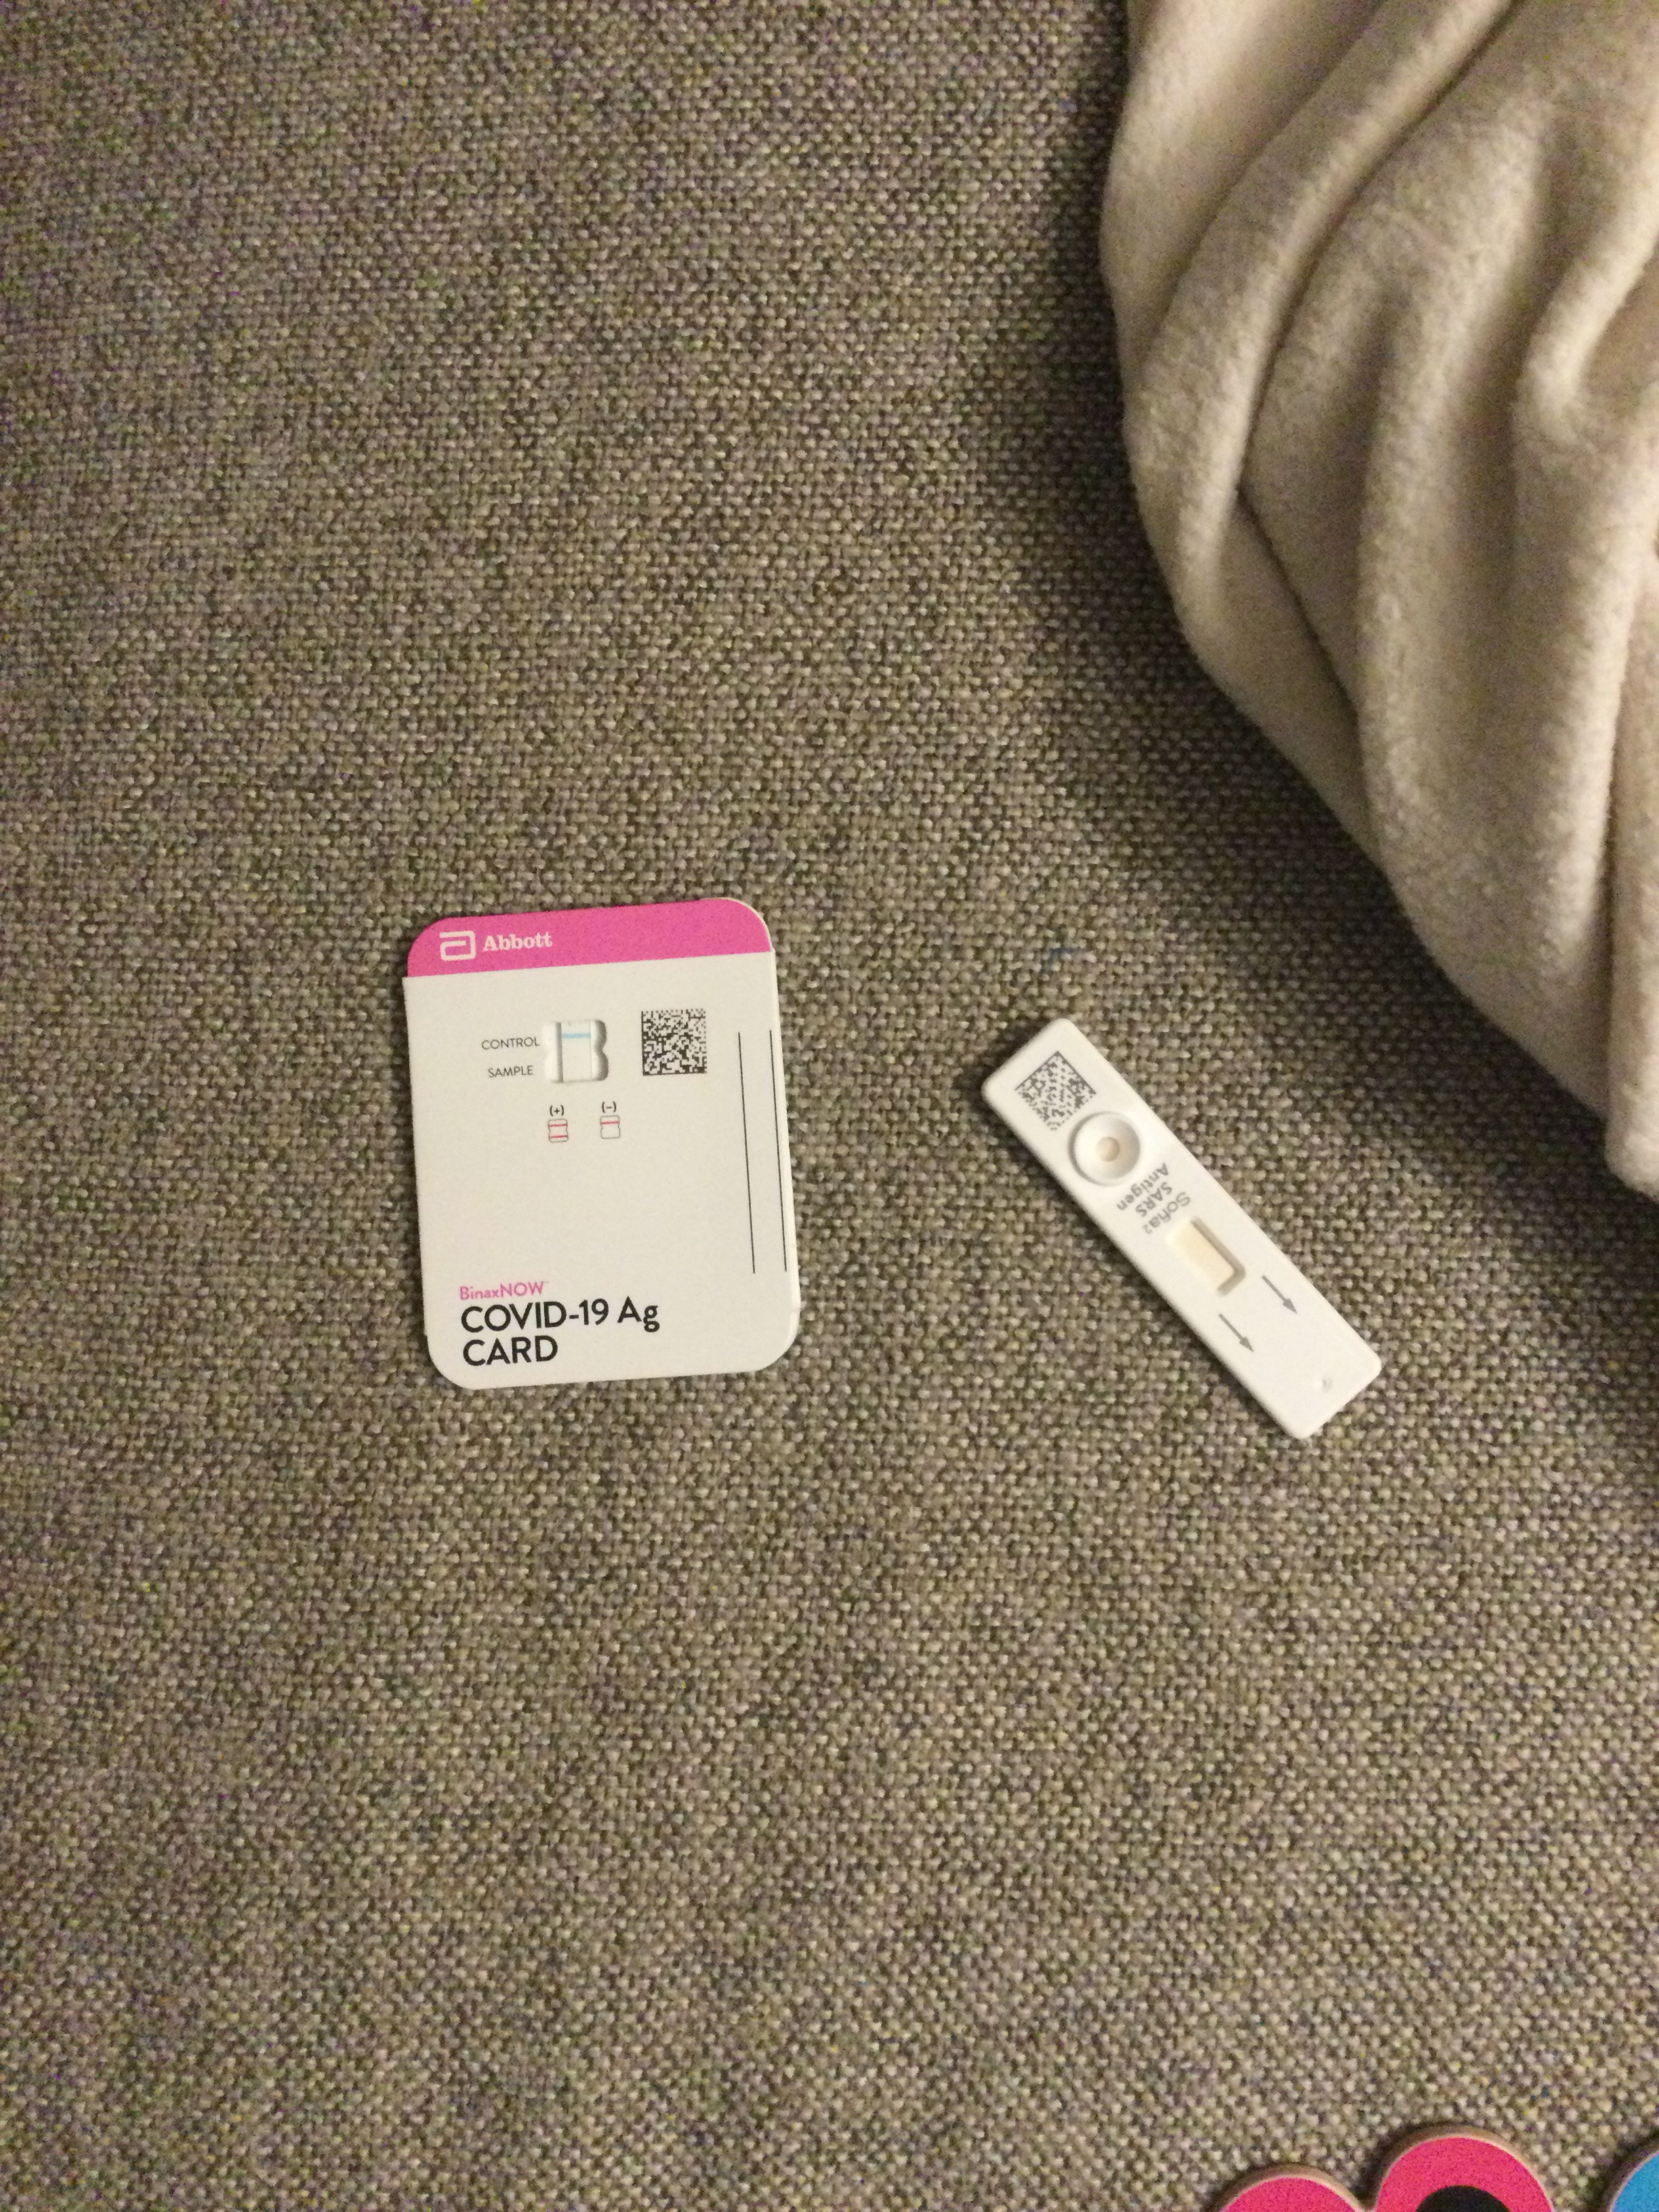binax: (380, 899, 821, 1395)
quidel: (958, 1001, 1387, 1442)
